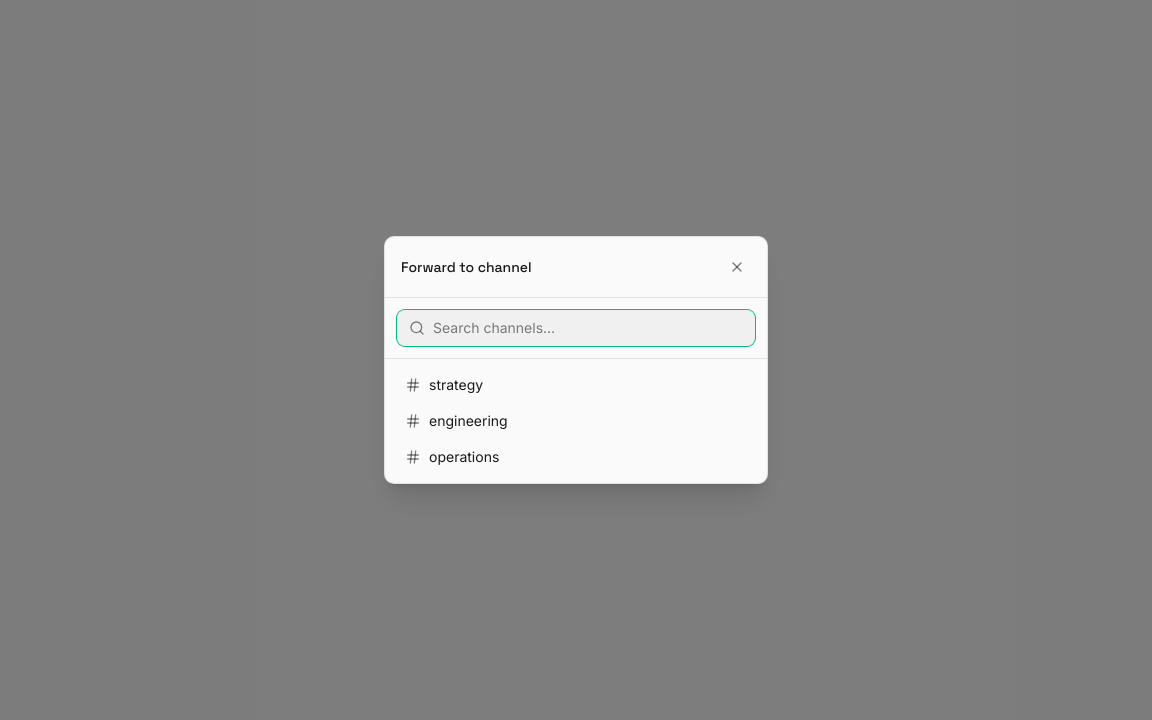
Scenario: ForwardModal › filters channels by search query
The width and height of the screenshot is (1152, 720).
Type "eng" into the field with placeholder "Search channels..." at (576, 328), box [397,310,755,346]
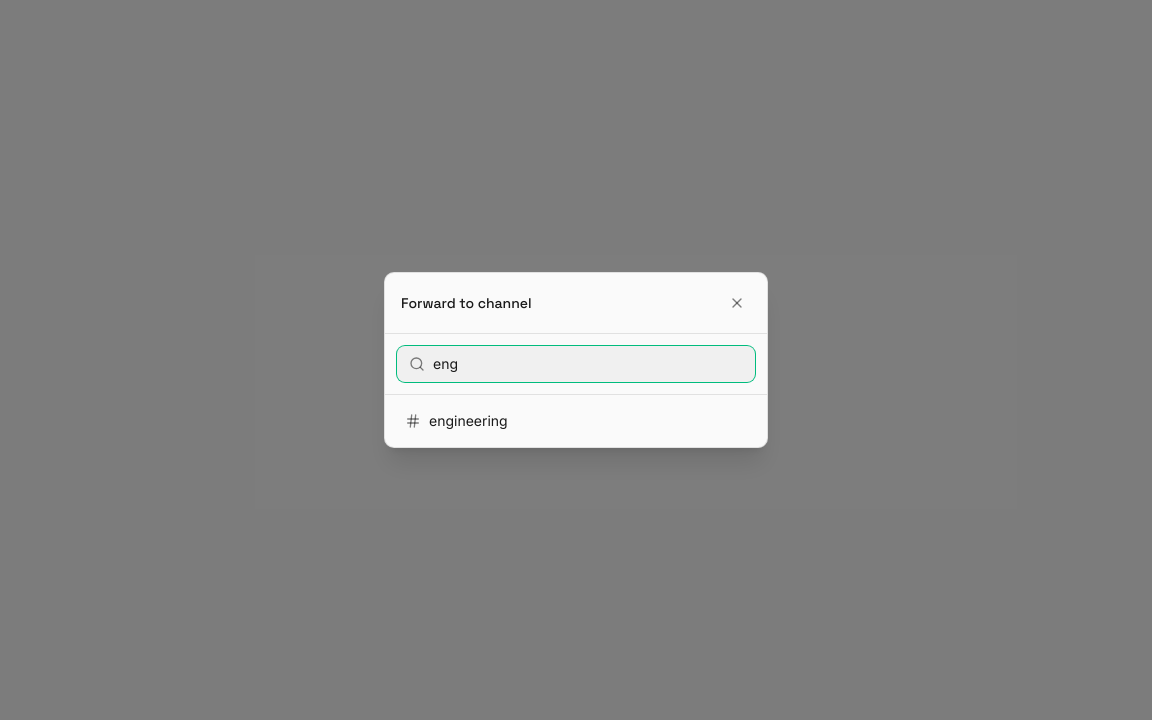
Expected: the text "engineering" is shown, [429,411,508,431]
Result: the button "strategy" is gone
Result: the button "operations" is gone
